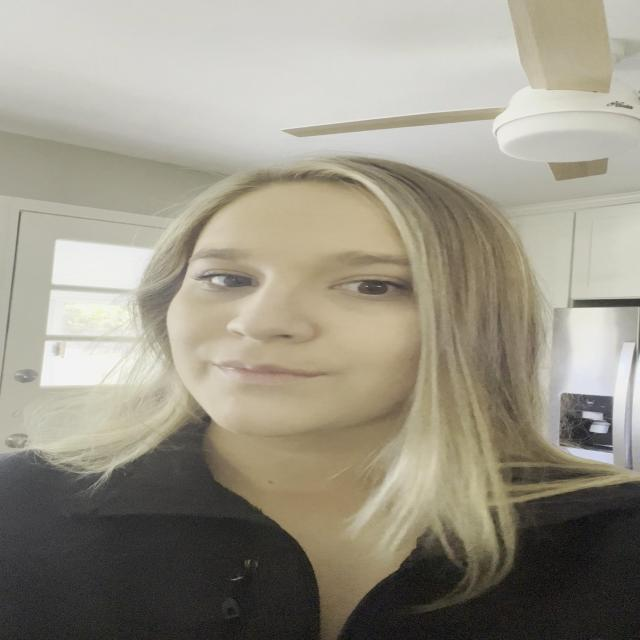no-helmet: (145, 167, 456, 466)
